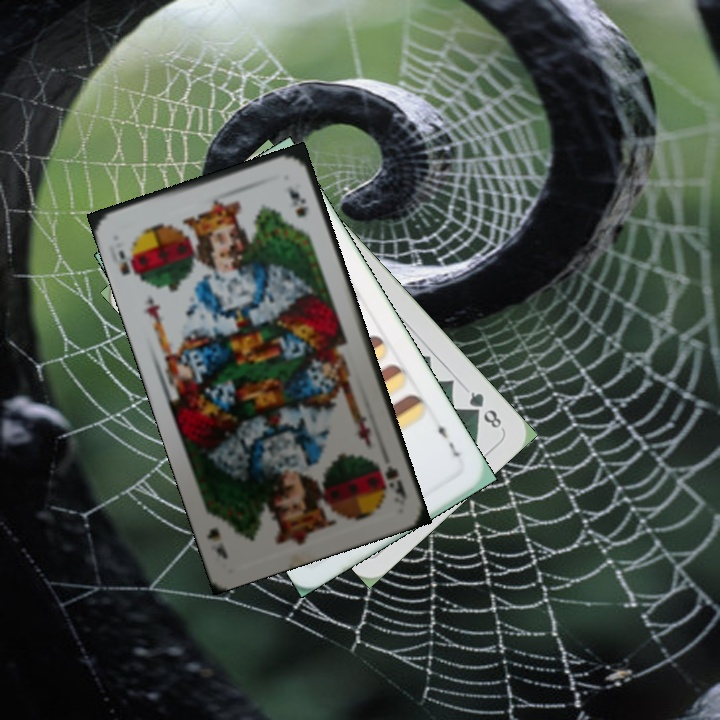E7: (433, 415, 463, 460)
G8: (465, 387, 504, 431)
SK: (373, 457, 410, 503), (114, 243, 145, 284)
